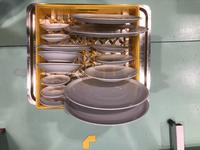Dish: (64, 76, 149, 111), (64, 99, 150, 126), (64, 23, 149, 37), (84, 65, 137, 82), (68, 13, 142, 24), (35, 63, 83, 74), (37, 51, 82, 62), (95, 54, 134, 65), (36, 45, 91, 52), (91, 44, 129, 53), (38, 96, 66, 108), (40, 86, 66, 98), (40, 75, 70, 85), (40, 33, 70, 41), (40, 23, 69, 31)
